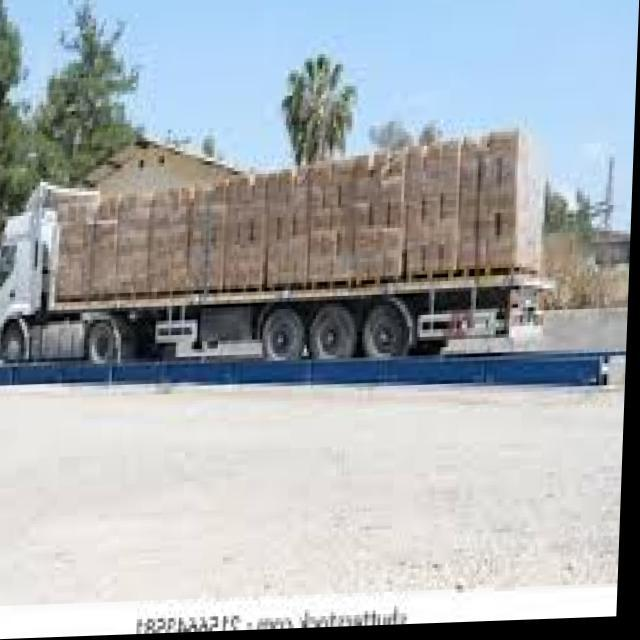uncovered: (0, 123, 550, 375)
